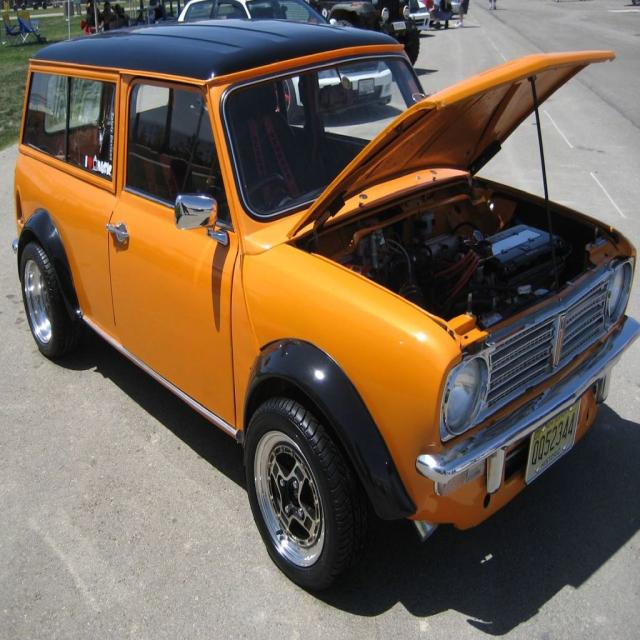car: (10, 12, 639, 597)
